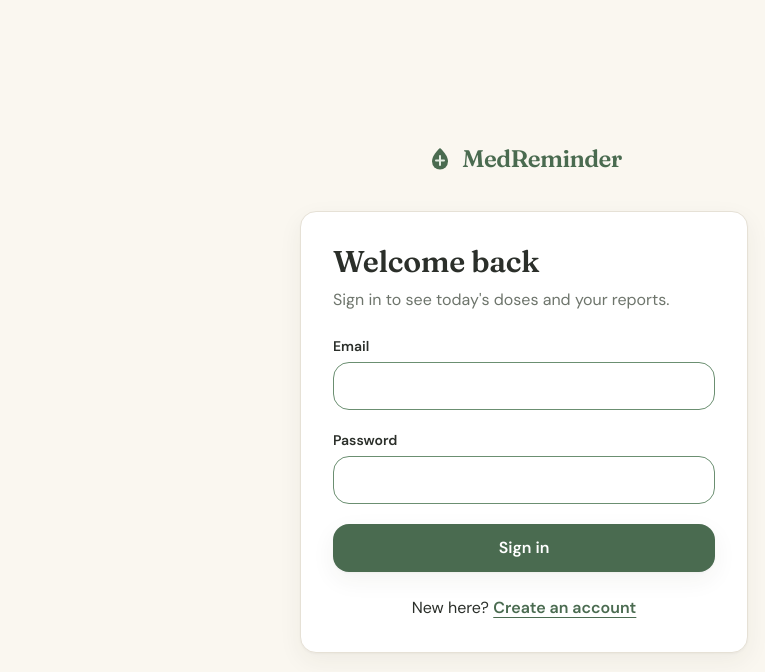
Test: LoginPage › signs in with a trimmed email and lands on the role home
Type "  asha@example.com " into the field labelled "Email" at (524,386), box top-left (333, 362), bottom-right (715, 410)
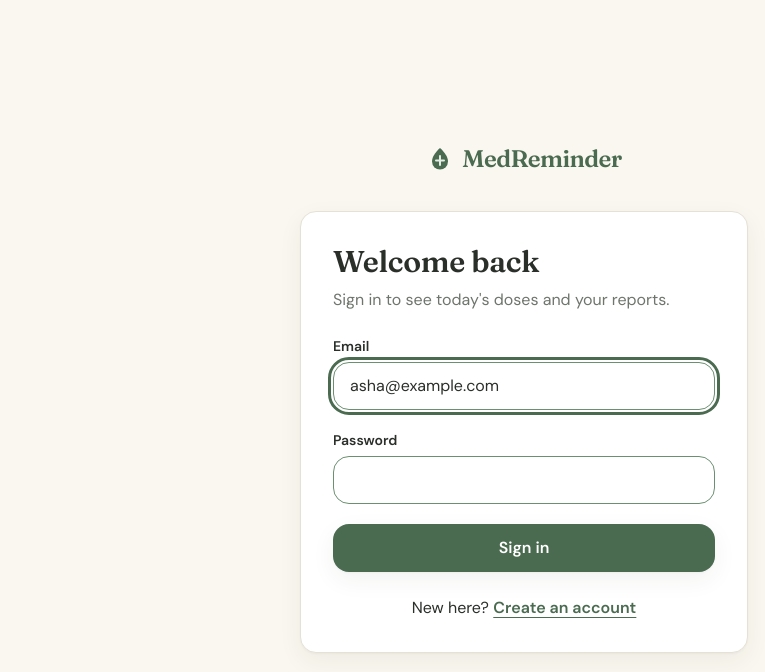
Type "secret-pass" into the password field labelled "Password" at (524,480), box top-left (333, 456), bottom-right (715, 504)
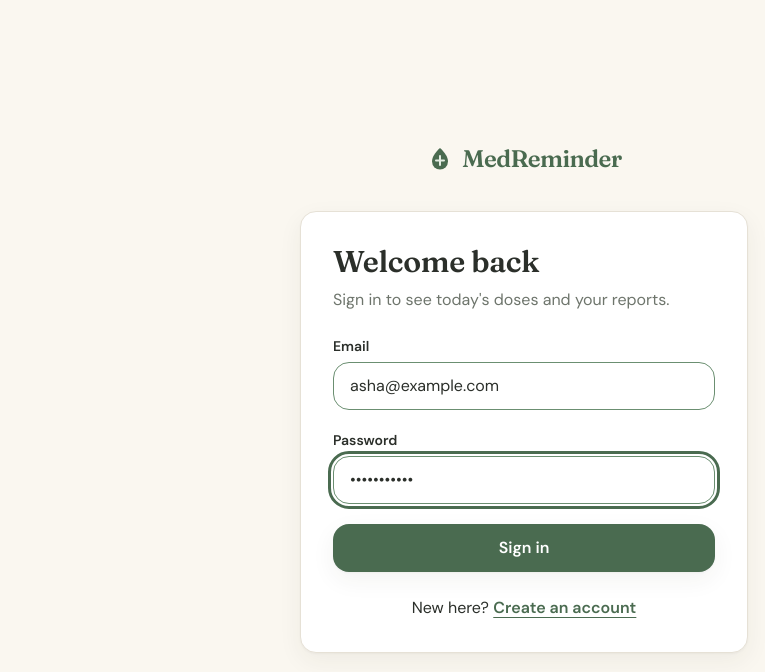
Click the button "Sign in" at (524,548), box top-left (333, 524), bottom-right (715, 572)
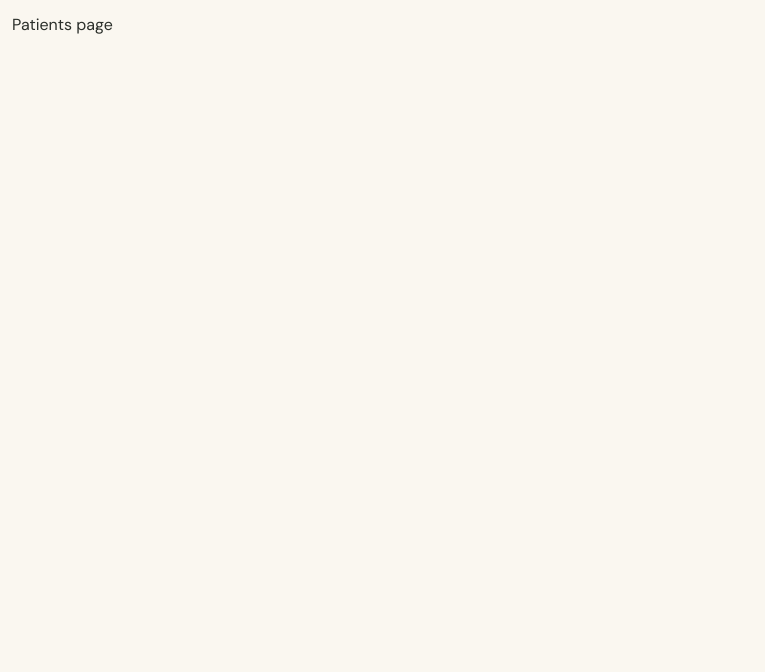
Check: the text "Patients page" is shown, box top-left (12, 14), bottom-right (113, 35)
